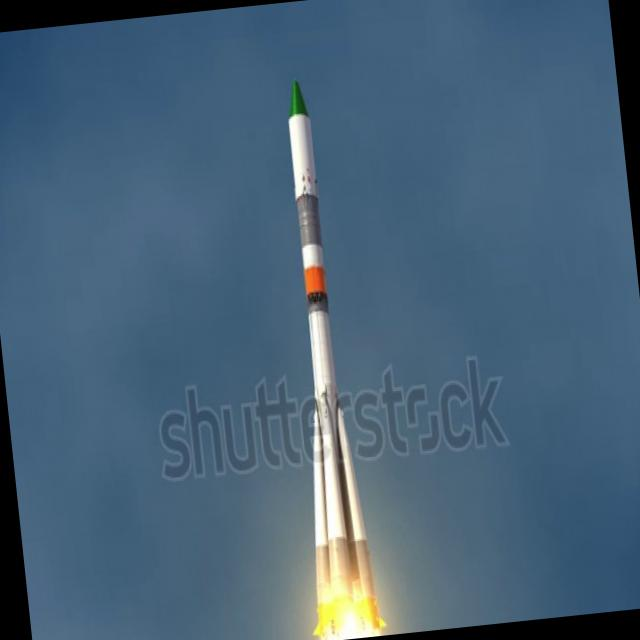rocket: (267, 71, 381, 639)
